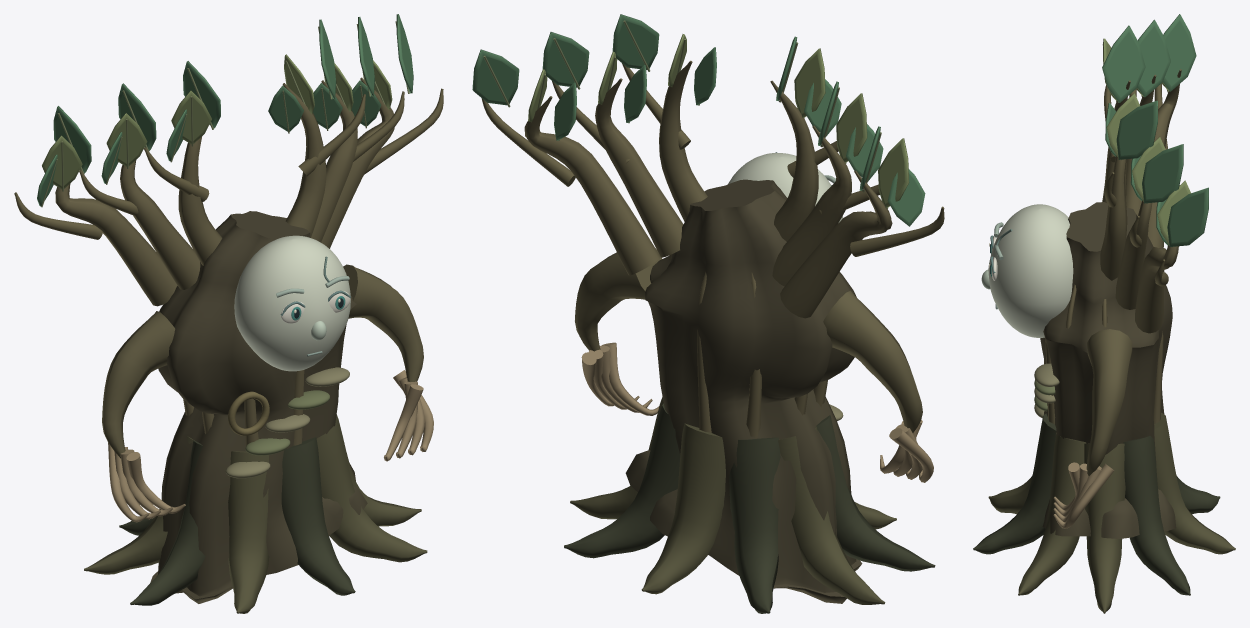
The model's file is Enemy5.obj.
3 renders of one model, left to right at view 1: azimuth 30°, elevation 25°; view 2: azimuth 150°, elevation 25°; view 3: azimuth 270°, elevation 25°, orthographic. The views are drawn at different scales.
Visible parts, largest first — view 1: Enemy5(Clone)__Rig__Body__Sculpt_render, Enemy5(Clone)__Rig__Body__Head__Sculpt_render, Enemy5(Clone)__Rig__Body__ArmL__Sculpt_render, Enemy5(Clone)__Rig__Body__ArmR__Sculpt_render; view 2: Enemy5(Clone)__Rig__Body__Sculpt_render, Enemy5(Clone)__Rig__Body__ArmL__Sculpt_render, Enemy5(Clone)__Rig__Body__ArmR__Sculpt_render, Enemy5(Clone)__Rig__Body__Head__Sculpt_render; view 3: Enemy5(Clone)__Rig__Body__Sculpt_render, Enemy5(Clone)__Rig__Body__Head__Sculpt_render, Enemy5(Clone)__Rig__Body__ArmR__Sculpt_render.
Boxes of the visible parts, box(x1,y1,x2,y2) form: Enemy5(Clone)__Rig__Body__Sculpt_render: box(14, 14, 443, 613); Enemy5(Clone)__Rig__Body__Head__Sculpt_render: box(234, 235, 350, 371); Enemy5(Clone)__Rig__Body__ArmL__Sculpt_render: box(102, 311, 185, 522); Enemy5(Clone)__Rig__Body__ArmR__Sculpt_render: box(343, 264, 433, 461); Enemy5(Clone)__Rig__Body__Sculpt_render: box(472, 14, 944, 613); Enemy5(Clone)__Rig__Body__ArmL__Sculpt_render: box(823, 290, 933, 482); Enemy5(Clone)__Rig__Body__ArmR__Sculpt_render: box(575, 248, 662, 415); Enemy5(Clone)__Rig__Body__Head__Sculpt_render: box(728, 152, 842, 222); Enemy5(Clone)__Rig__Body__Sculpt_render: box(973, 14, 1235, 613); Enemy5(Clone)__Rig__Body__Head__Sculpt_render: box(981, 204, 1073, 337); Enemy5(Clone)__Rig__Body__ArmR__Sculpt_render: box(1053, 329, 1132, 528).
Size of the model in its own units: 3.88 by 4.49 by 2.11.
